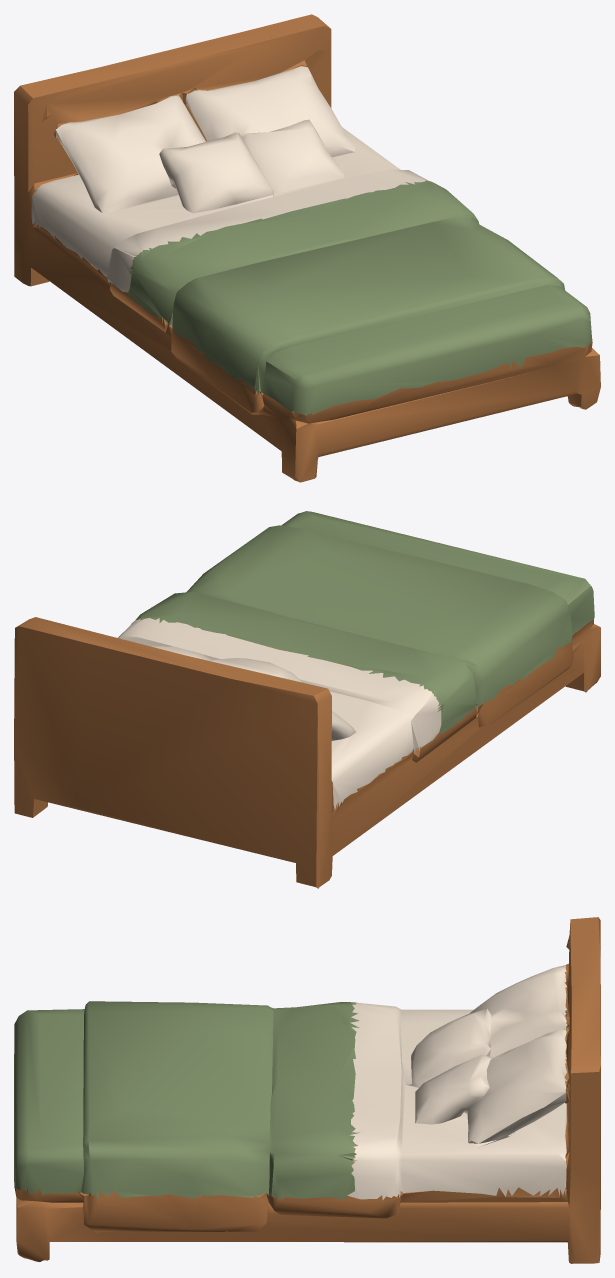
The model's file is bed.glb.
3 views of the same model, one above another, from view 1: azimuth 30°, elevation 25°; view 2: azimuth 150°, elevation 25°; view 3: azimuth 270°, elevation 25° (orthographic). The views are drawn at different scales.
Visible parts, largest first — view 1: bed_blanket, bed_wood, bed_fabric; view 2: bed_wood, bed_blanket, bed_fabric; view 3: bed_blanket, bed_fabric, bed_wood.
Part boxes in pixels (bbox=[...]): bed_blanket: bbox=[128, 180, 592, 415]; bed_wood: bbox=[14, 14, 600, 482]; bed_fabric: bbox=[31, 66, 428, 292]; bed_wood: bbox=[14, 617, 600, 888]; bed_blanket: bbox=[134, 511, 594, 733]; bed_fabric: bbox=[118, 618, 441, 809]; bed_blanket: bbox=[14, 1001, 359, 1200]; bed_fabric: bbox=[347, 965, 567, 1199]; bed_wood: bbox=[14, 917, 600, 1263].
Bounding box in the file's own units: 1.92 × 1.08 × 2.92.
